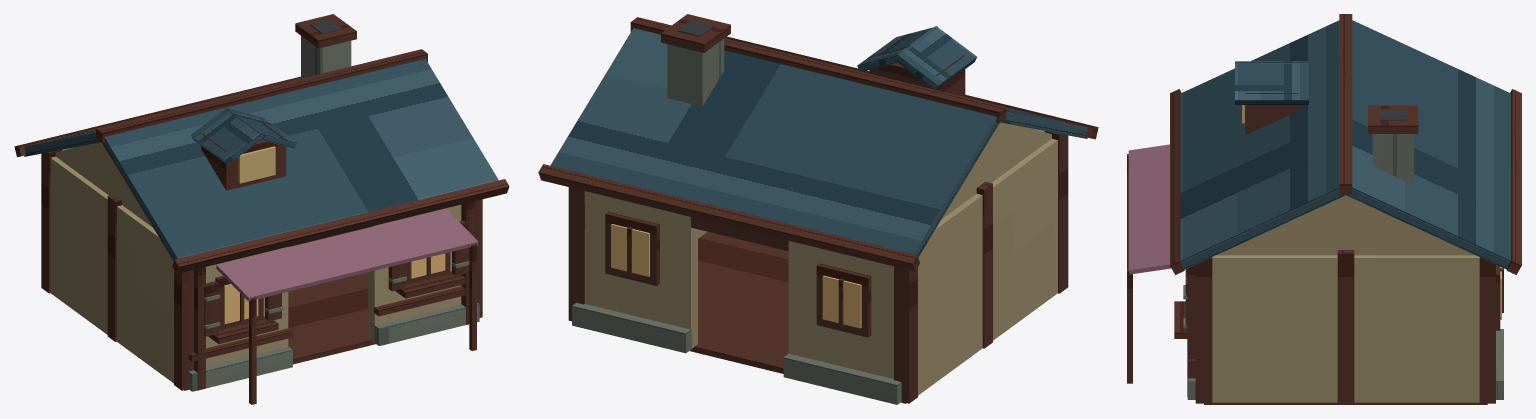
The model's file is canopy_shop.glb.
3 renders of one model, left to right at view 1: azimuth 30°, elevation 25°; view 2: azimuth 150°, elevation 25°; view 3: azimuth 270°, elevation 25°, orthographic. The views are drawn at different scales.
Visible parts, largest first — view 1: _MeshInstance3D_166, _MeshInstance3D_192, CanvasAwning, Floor, _MeshInstance3D_167, Ridge, Gable, _MeshInstance3D_142, _MeshInstance3D_150, DormerRoof, _MeshInstance3D_161, _MeshInstance3D_160 (+23 smaller); view 2: RoofSlope, _MeshInstance3D_192, Floor, _MeshInstance3D_135, _MeshInstance3D_190, EaveTrim, Ridge, Gable, TimberPost, _MeshInstance3D_156, Foundation, Chimney (+14 smaller); view 3: SideWall, RoofSlope, _MeshInstance3D_166, _MeshInstance3D_165, CanvasAwning, _MeshInstance3D_181, _MeshInstance3D_154, _MeshInstance3D_155, Ridge, _MeshInstance3D_153, EaveTrim, _MeshInstance3D_167 (+8 smaller).
Boxes of the visible parts, left/top/right/bottom form: _MeshInstance3D_166: left=102, top=59, right=498, bottom=261; _MeshInstance3D_192: left=50, top=156, right=173, bottom=383; CanvasAwning: left=216, top=208, right=478, bottom=301; Floor: left=184, top=272, right=375, bottom=390; _MeshInstance3D_167: left=172, top=179, right=509, bottom=273; Ridge: left=96, top=49, right=427, bottom=142; Gable: left=55, top=142, right=152, bottom=227; _MeshInstance3D_142: left=368, top=204, right=461, bottom=342; _MeshInstance3D_150: left=174, top=270, right=193, bottom=390; DormerRoof: left=191, top=107, right=264, bottom=164; _MeshInstance3D_161: left=374, top=302, right=479, bottom=345; _MeshInstance3D_160: left=188, top=346, right=292, bottom=391; RoofSlope: left=550, top=28, right=999, bottom=257; _MeshInstance3D_192: left=918, top=139, right=1057, bottom=395; Floor: left=689, top=232, right=906, bottom=403; _MeshInstance3D_135: left=585, top=191, right=697, bottom=349; _MeshInstance3D_190: left=788, top=241, right=893, bottom=378; EaveTrim: left=538, top=164, right=919, bottom=271; Ridge: left=630, top=17, right=1006, bottom=123; Gable: left=941, top=122, right=1051, bottom=219; TimberPost: left=894, top=266, right=917, bottom=403; _MeshInstance3D_156: left=572, top=302, right=693, bottom=353; Foundation: left=783, top=353, right=901, bottom=404; Chimney: left=667, top=39, right=724, bottom=106; SideWall: left=1212, top=255, right=1479, bottom=402; RoofSlope: left=1345, top=20, right=1511, bottom=269; _MeshInstance3D_166: left=1180, top=20, right=1345, bottom=269; _MeshInstance3D_165: left=1217, top=195, right=1474, bottom=255; CanvasAwning: left=1128, top=144, right=1171, bottom=274; _MeshInstance3D_181: left=1235, top=61, right=1308, bottom=104; _MeshInstance3D_154: left=1337, top=250, right=1354, bottom=403; _MeshInstance3D_155: left=1195, top=257, right=1212, bottom=403; Ridge: left=1339, top=14, right=1352, bottom=194; _MeshInstance3D_153: left=1479, top=257, right=1495, bottom=403; EaveTrim: left=1507, top=89, right=1521, bottom=274; _MeshInstance3D_167: left=1170, top=89, right=1184, bottom=274.
Bounding box in the file's own units: 6.9 × 4.86 × 6.68.
11 materials, 4 textured.
